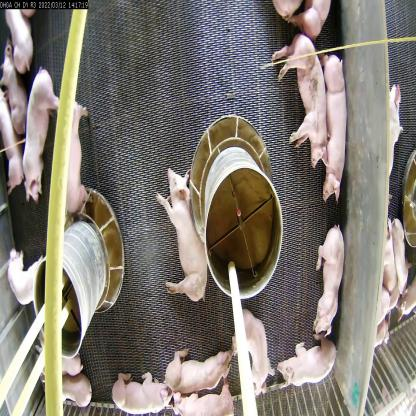Pig: (155, 159, 211, 310), (271, 37, 328, 170), (15, 62, 59, 210), (47, 99, 99, 215), (316, 51, 352, 204), (230, 304, 274, 400), (313, 222, 346, 338), (168, 336, 234, 392), (276, 338, 340, 388), (110, 368, 178, 415), (2, 246, 49, 305), (172, 382, 242, 416), (48, 380, 102, 412)
